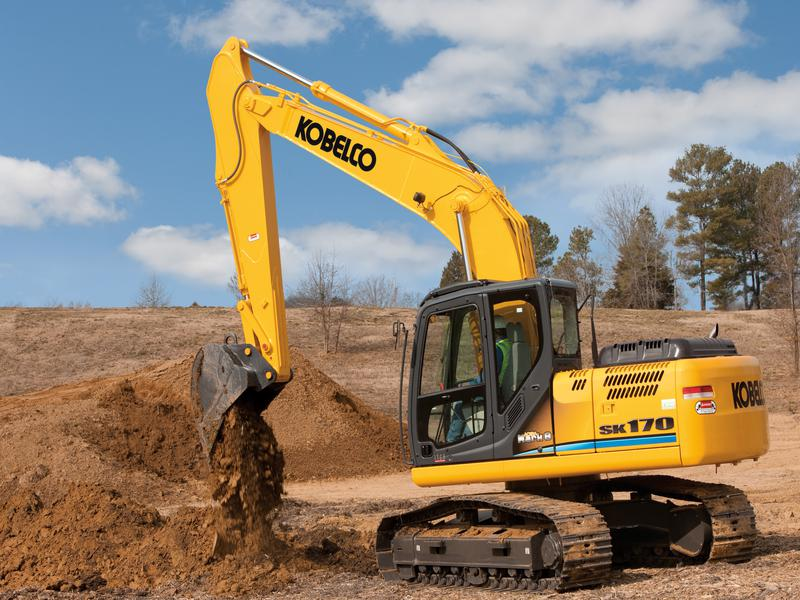shovel: (183, 27, 780, 586)
